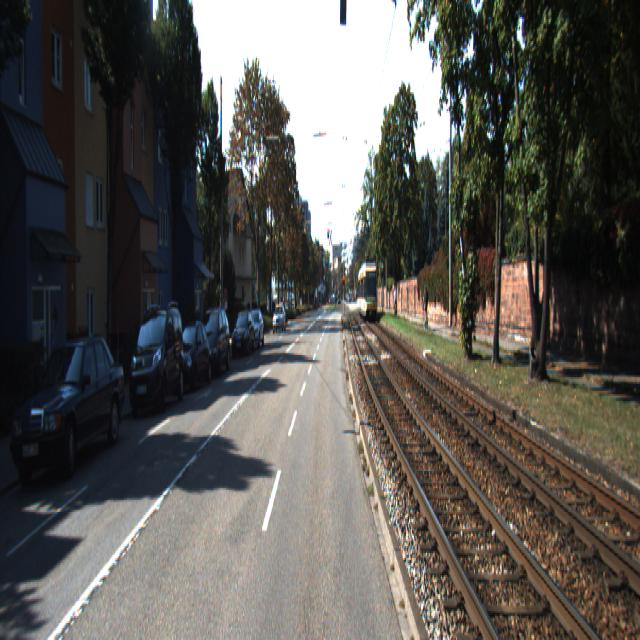Car: (10, 331, 126, 492), (126, 301, 186, 421), (170, 318, 212, 395), (194, 304, 231, 382), (357, 260, 378, 322), (232, 311, 256, 360), (244, 310, 264, 352)
